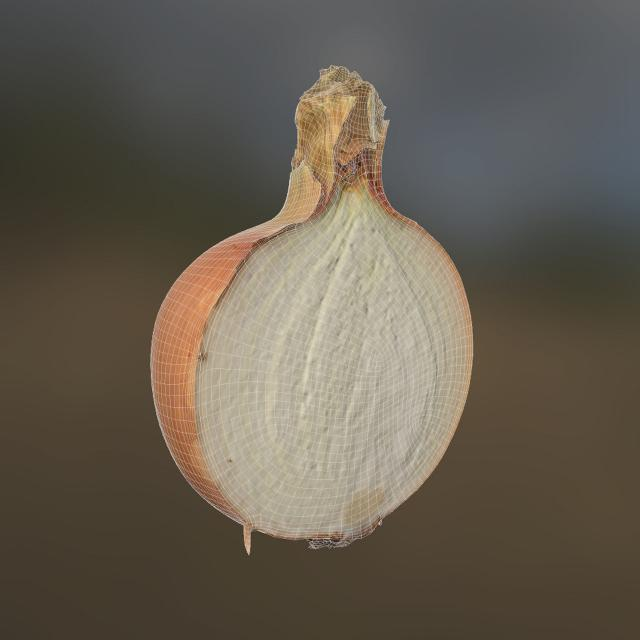onion: (145, 64, 481, 560)
